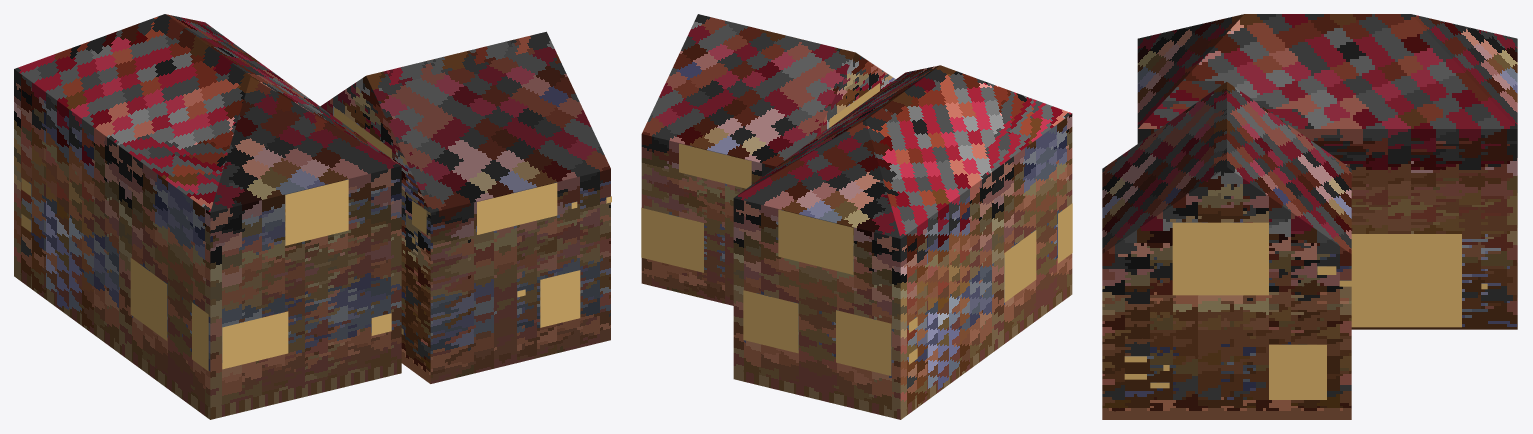
Rendered from dum_3e_domy.glb.
3 renders of one model, left to right at view 1: azimuth 30°, elevation 25°; view 2: azimuth 150°, elevation 25°; view 3: azimuth 270°, elevation 25°, orthographic. The views are drawn at different scales.
Visible parts, largest first — view 1: object 1, noc; view 2: object 1, noc; view 3: object 1, noc.
Boxes of the visible parts, left/top/right/bottom form: object 1: left=14, top=14, right=610, bottom=419; noc: left=21, top=107, right=611, bottom=371; object 1: left=641, top=14, right=1072, bottom=419; noc: left=641, top=83, right=1072, bottom=375; object 1: left=1102, top=14, right=1517, bottom=419; noc: left=1124, top=222, right=1487, bottom=399.
Size of the model in its own units: 8.36 by 5.81 by 8.13.
1 material, 1 textured.
